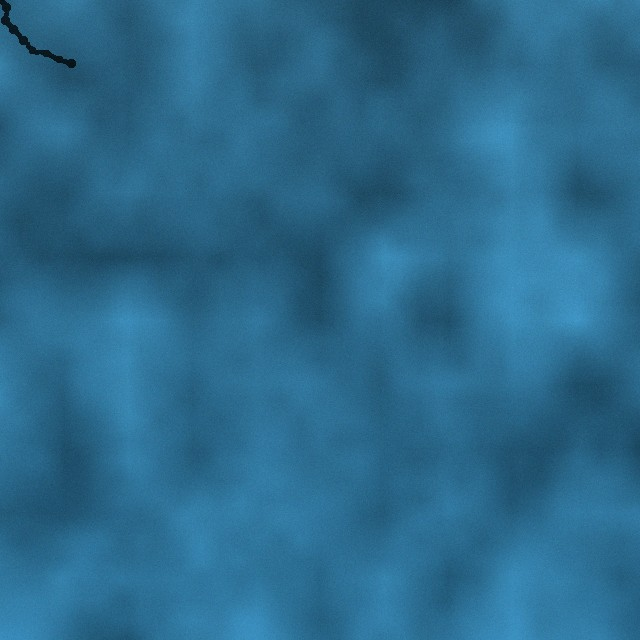crack: (0, 0, 75, 67)
